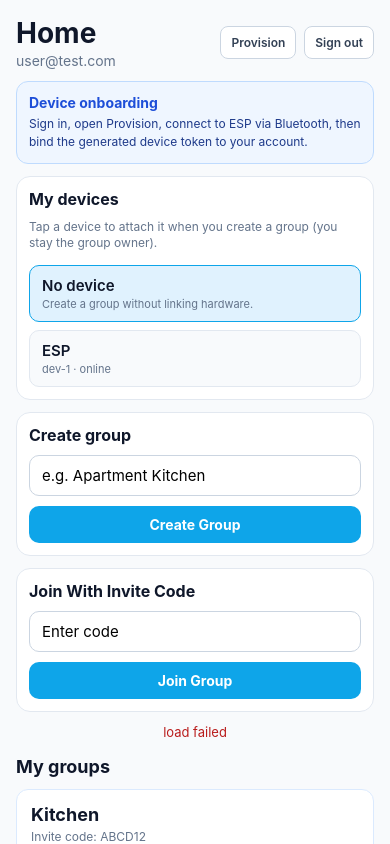
Scenario: DashboardScreen › shows errors when loading fails and handles sign out errors
The width and height of the screenshot is (390, 844).
Expected: the text "load failed" is shown, [163,724,227,740]
Click the text "Sign out": coordinates (339, 42) [315,35,363,50]
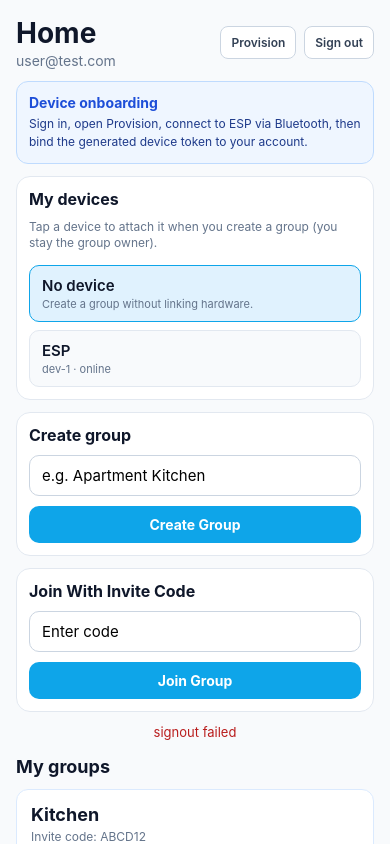
Expected: the text "signout failed" is shown, [154,724,236,740]
